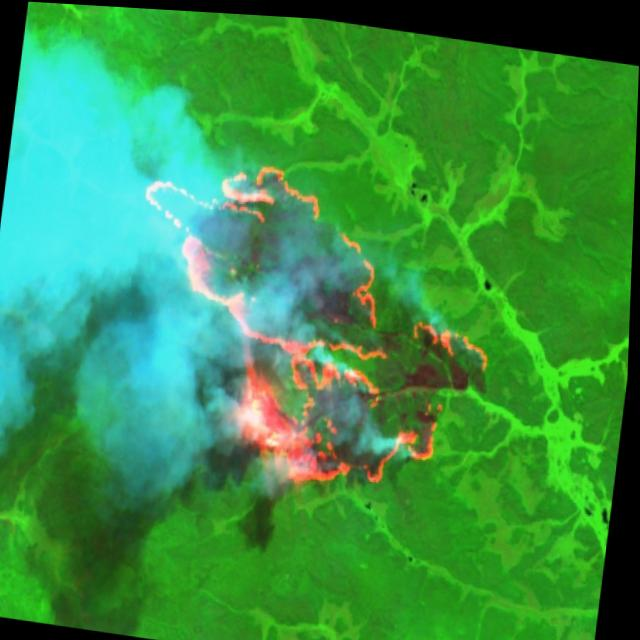fire: (108, 122, 512, 506)
